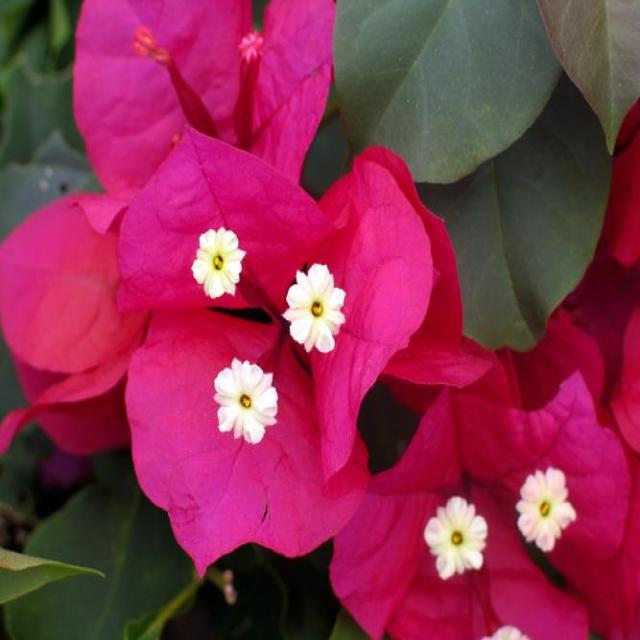bougainvillea: (99, 115, 441, 574), (332, 353, 640, 640), (48, 0, 367, 229)
